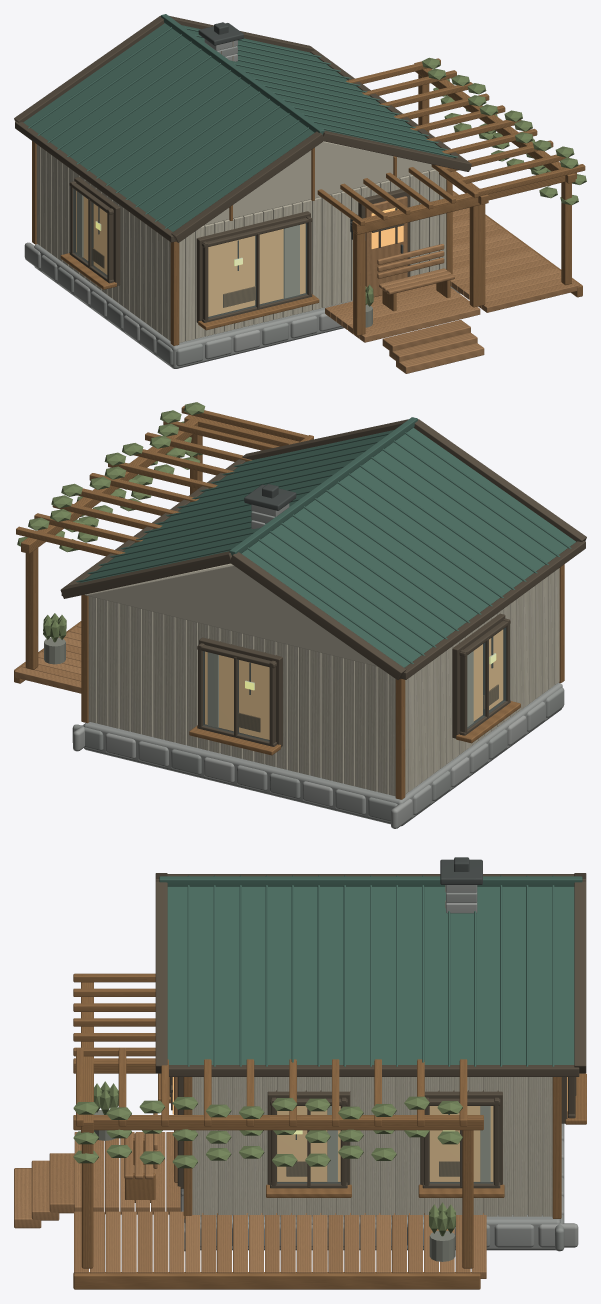
File: Lake_Cabin_SagePergola.glb
3 renders of one model, top to bottom at view 1: azimuth 30°, elevation 25°; view 2: azimuth 150°, elevation 25°; view 3: azimuth 270°, elevation 25°, orthographic. The views are drawn at different scales.
Parts seen in each view (by area): view 1: Cabin_SagePergola; view 2: Cabin_SagePergola; view 3: Cabin_SagePergola.
Boxes of the visible parts, bbox=[...] form: Cabin_SagePergola: bbox=[14, 14, 586, 373]; Cabin_SagePergola: bbox=[14, 402, 586, 828]; Cabin_SagePergola: bbox=[14, 857, 586, 1289].
Bounding box in the file's own units: 9.45 × 5.38 × 9.01.
Materials: 21 (8 with a texture image).
